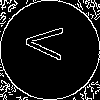V: (25, 25, 73, 61)
